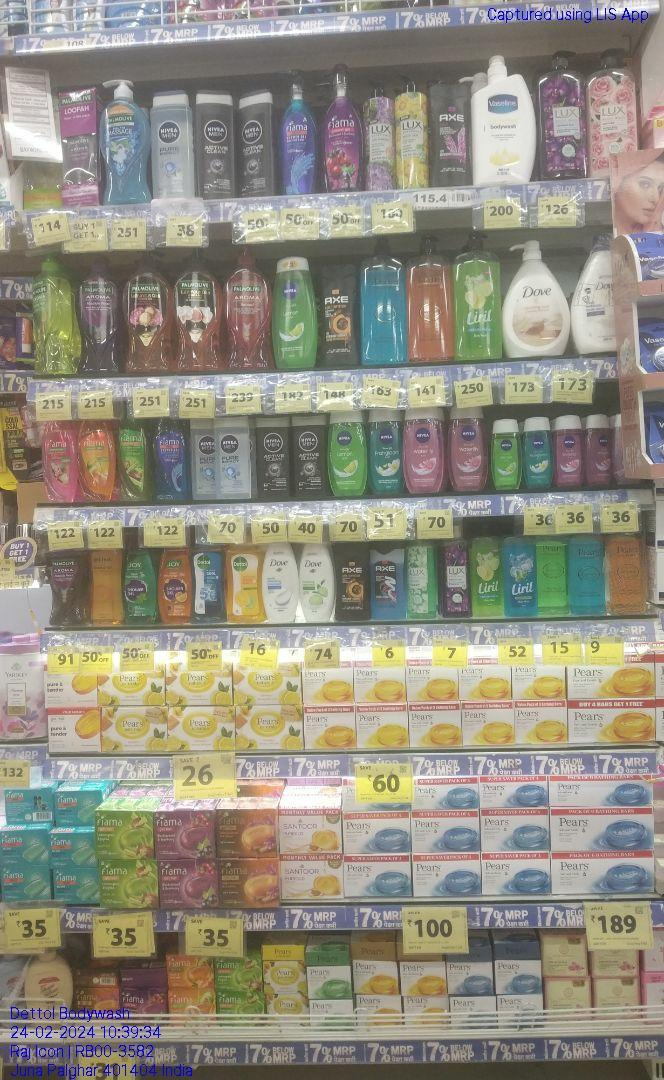Dettol_Bodywash_Cool: (192, 541, 224, 624)
Dettol_Bodywash_Refresh: (227, 542, 261, 624)
Dove_Gentle_Exfoliating_Body_Wash_250ML: (263, 542, 297, 623)
Dove_Refreshing_Body_Wash_250ML: (300, 543, 332, 623)
Fiama_Shower_Gel_Lemongrass_and_Jojoba_250ML: (118, 420, 151, 504)
Fiama_Shower_Gel_Patchouli_and_Macadamia_250ML: (44, 421, 77, 504)
Fiama_Shower_Gel_Peach_and_Avocado_250ML: (79, 416, 116, 504)
Get_Real_Shower_Gel_Moisturising_Glycerin_300ML: (88, 550, 122, 627)
Liril_Cooling_Mint_Body_Wash_250ML: (504, 526, 537, 618)
Liril_Lime_and_Tea_Tree_Oil_Body_Wash_250ML: (471, 524, 504, 618)
Lux_Body_Wash_Skin_Detox_Freesia_Scent_and_Alove_Vera_245ML: (406, 540, 434, 619)
Nivea_Shower_Gel_Frangipani_and_Oil_250ML: (369, 408, 403, 495), (524, 417, 552, 493)
Nivea_Shower_Gel_Lemon_and_Oil_250ML: (272, 256, 314, 370), (329, 411, 365, 498), (492, 420, 521, 491)
